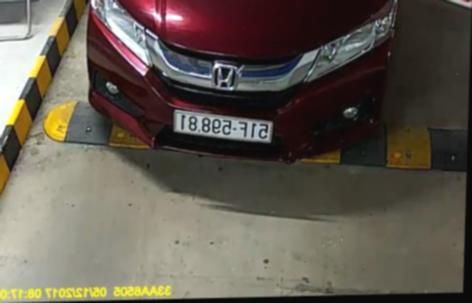License_Plate: (171, 108, 282, 146)
